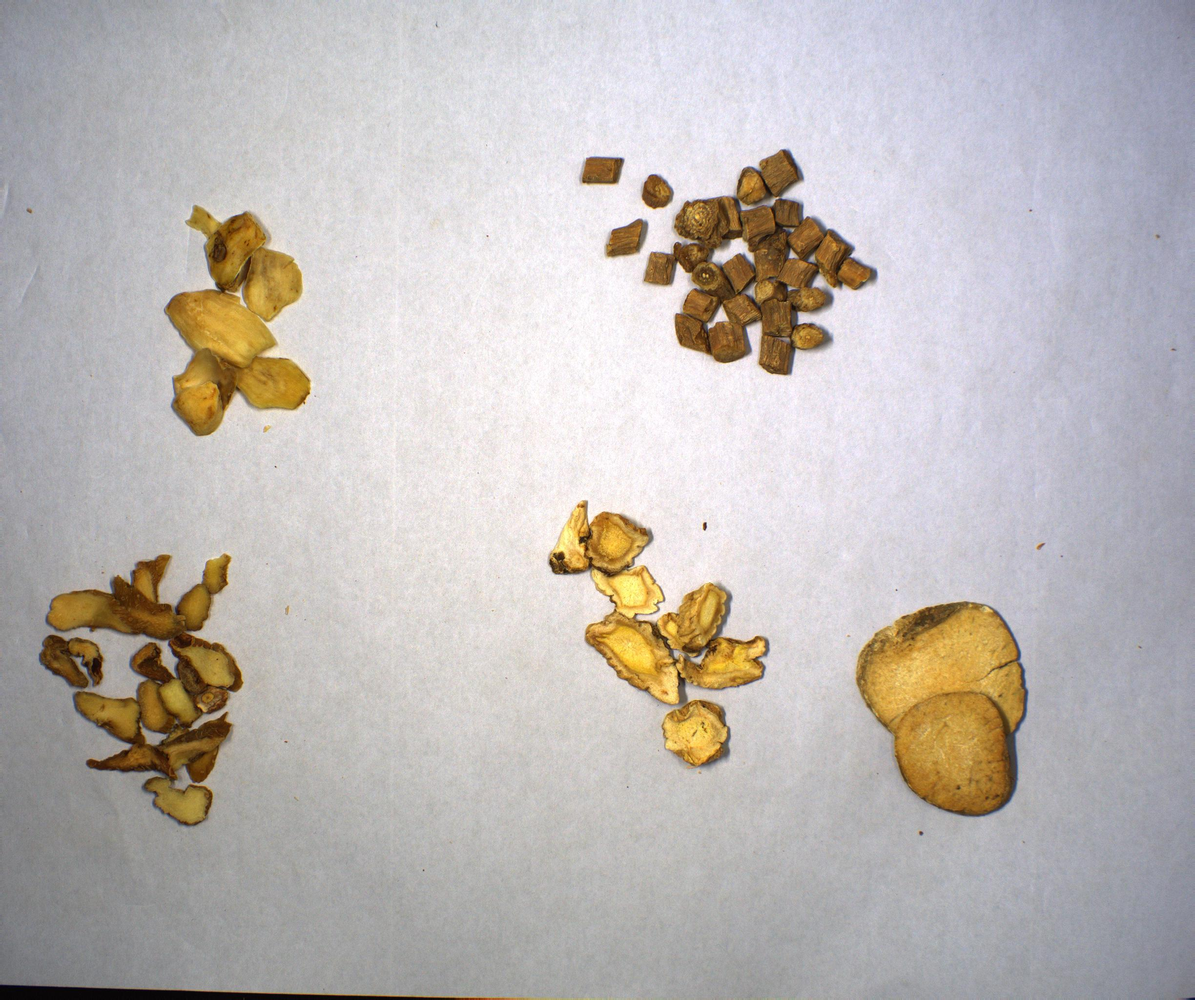baihe: (159, 201, 310, 437)
jiegeng: (549, 504, 772, 771)
niuxi: (577, 151, 881, 379)
yuzhu: (36, 546, 243, 828)
zexie: (853, 598, 1037, 818)
